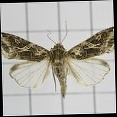Spodoptera litura: (2, 19, 115, 99)
